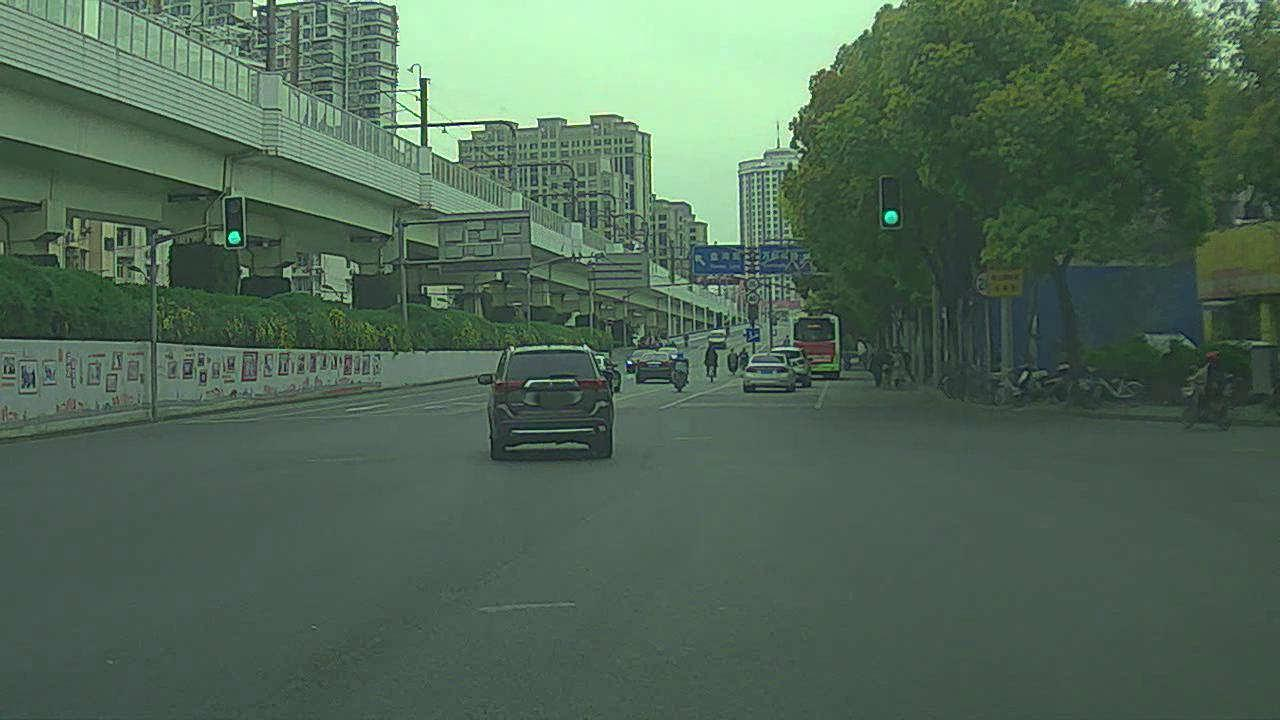traffic_light: (881, 178, 902, 232)
